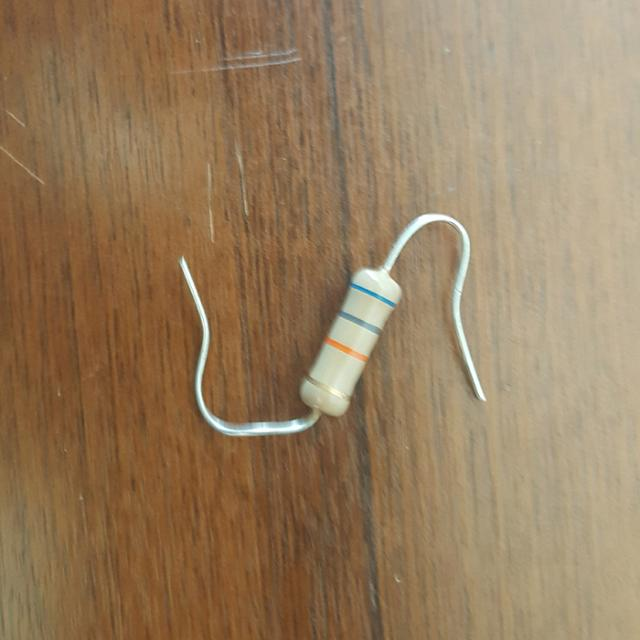blue: (349, 281, 397, 306)
gold: (305, 375, 348, 399)
grey: (337, 309, 380, 334)
orange: (325, 337, 367, 359)
resistor: (281, 241, 421, 433)
